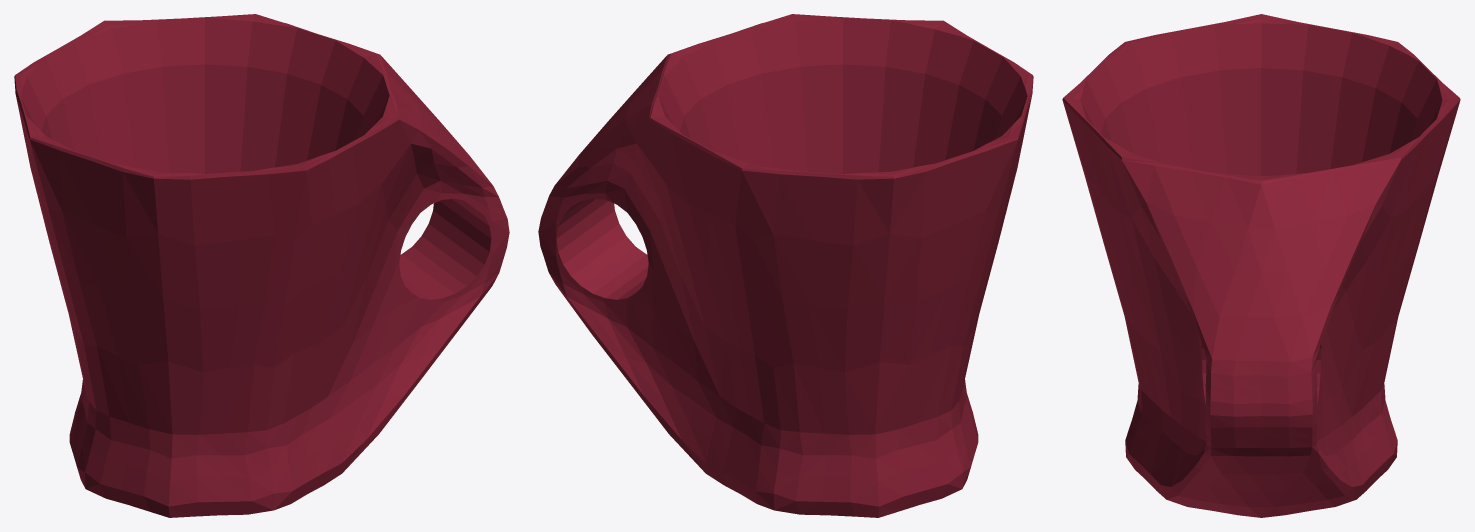
3 views of the same model, side by side, from view 1: azimuth 30°, elevation 25°; view 2: azimuth 150°, elevation 25°; view 3: azimuth 270°, elevation 25° (orthographic).
Visible parts, largest first — view 1: geometry_0; view 2: geometry_0; view 3: geometry_0.
Part boxes in pixels (left/top/right/bottom): geometry_0: left=14, top=14, right=509, bottom=517; geometry_0: left=538, top=14, right=1033, bottom=517; geometry_0: left=1062, top=14, right=1460, bottom=517.
Size of the model in its own units: 0.0975 by 0.0762 by 0.0747.
